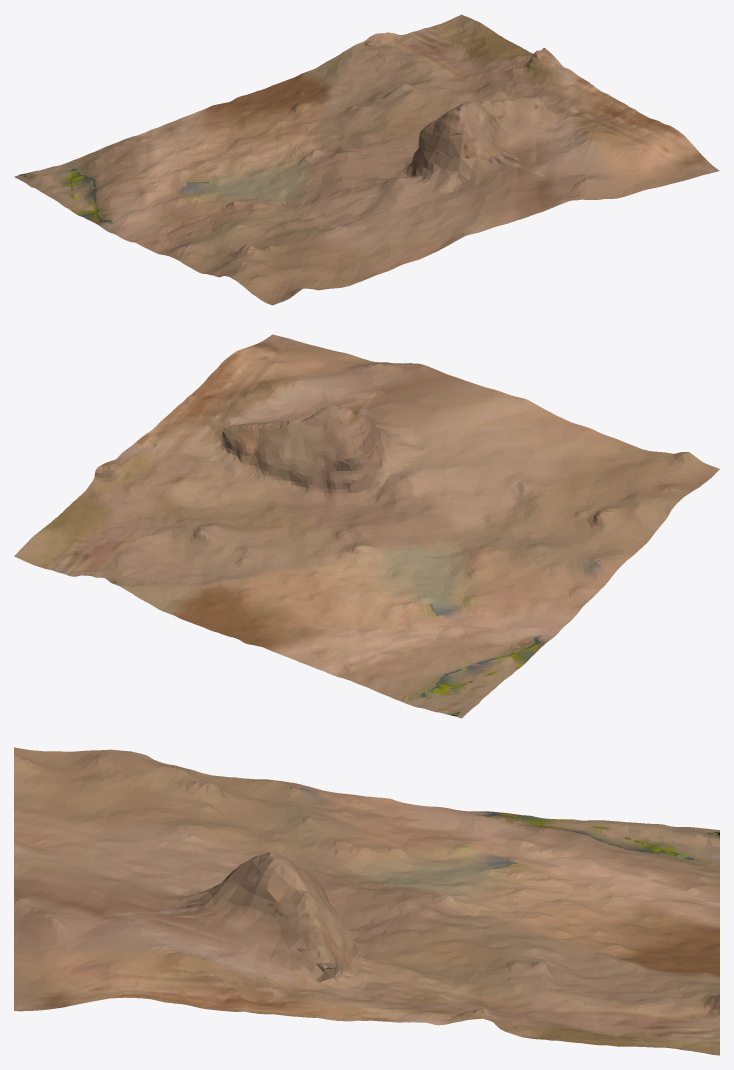
3 renders of one model, top to bottom at view 1: azimuth 30°, elevation 25°; view 2: azimuth 150°, elevation 25°; view 3: azimuth 270°, elevation 25°, orthographic. The views are drawn at different scales.
Bounding box in the file's own units: 1.04 × 0.2715 × 1.04.
Materials: 3 (3 with a texture image).
